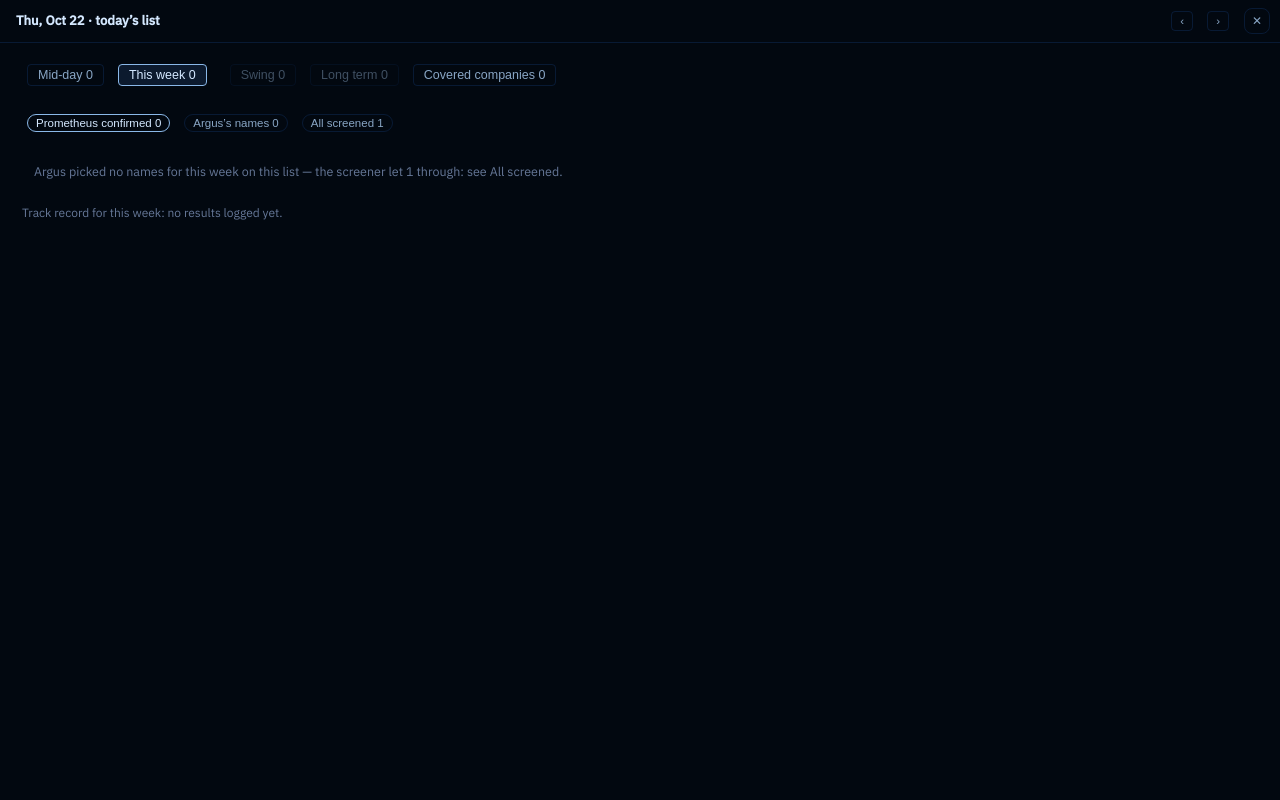
Test: HotlistPanel — did it work › Argus's record: a horizon's own
Click the button "Mid-day 0": [65, 75] box left=27, top=64, right=104, bottom=86
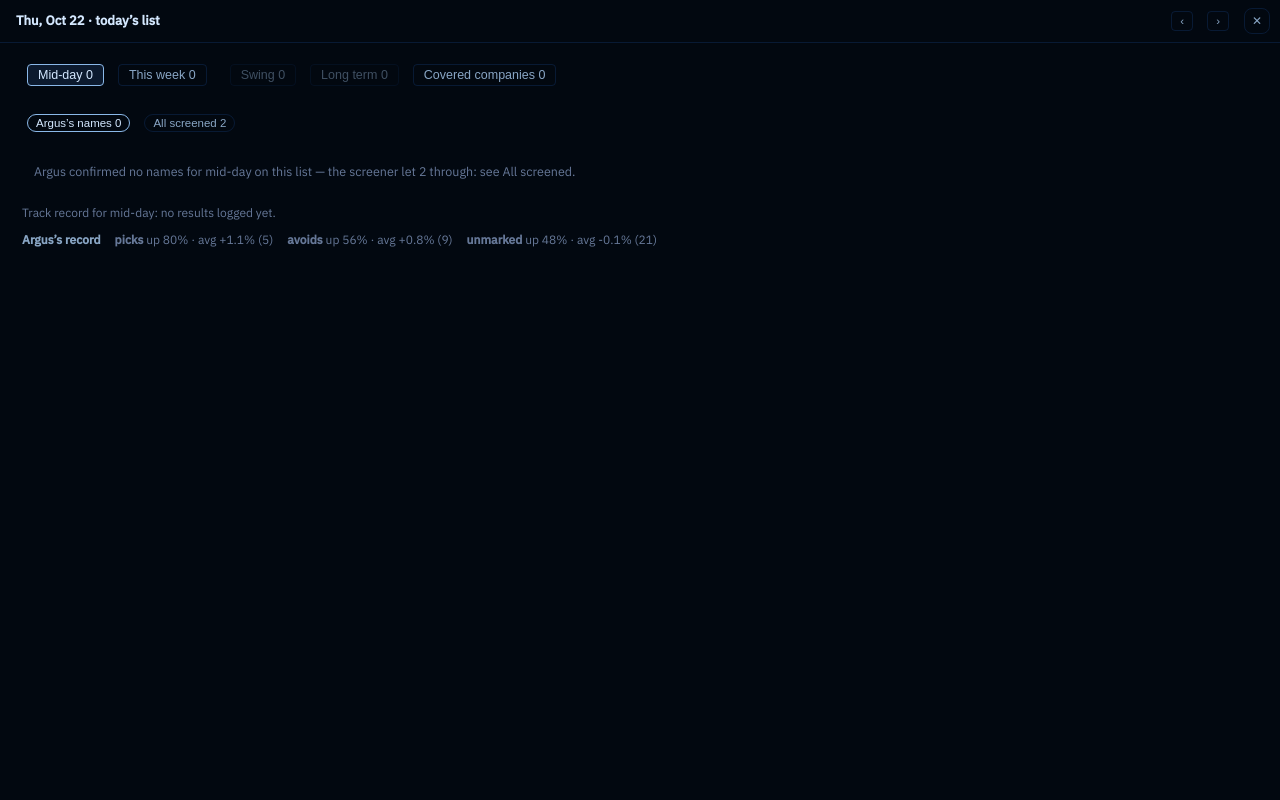
Now the element with class "hot-record" shows "picks up 80% · avg +1.1% (5)", box left=22, top=232, right=657, bottom=247
